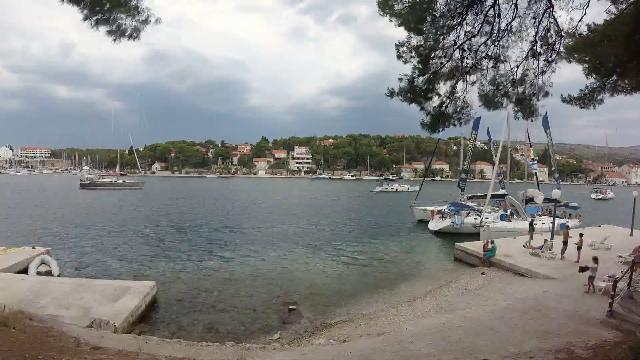Sailboat: (74, 168, 150, 194), (364, 175, 428, 199)
